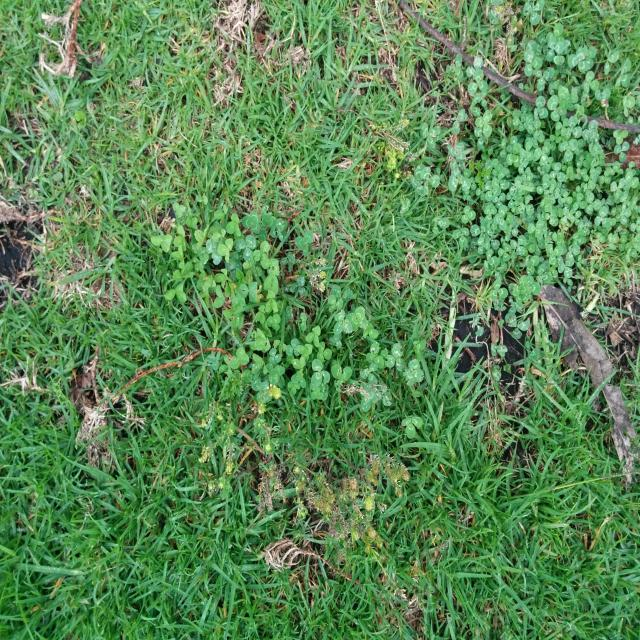Four Leaf Clover: (346, 306, 368, 331), (403, 359, 424, 385)
